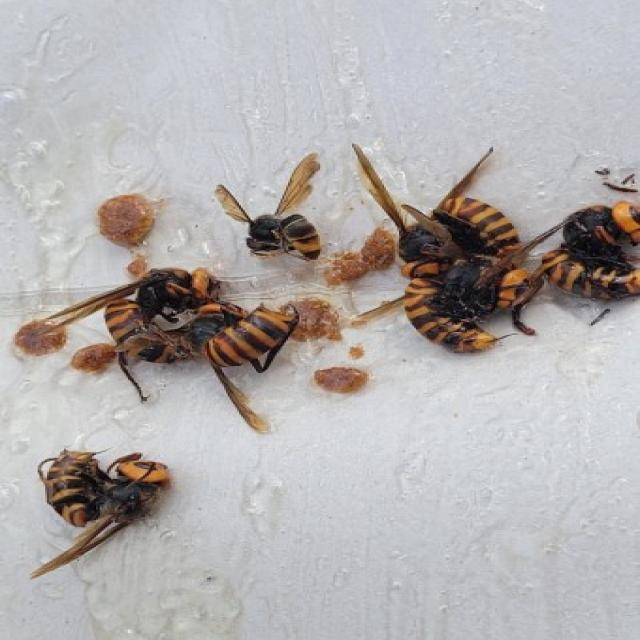Wasp: (29, 262, 221, 382), (32, 439, 173, 575), (540, 173, 640, 323), (212, 149, 321, 265)
